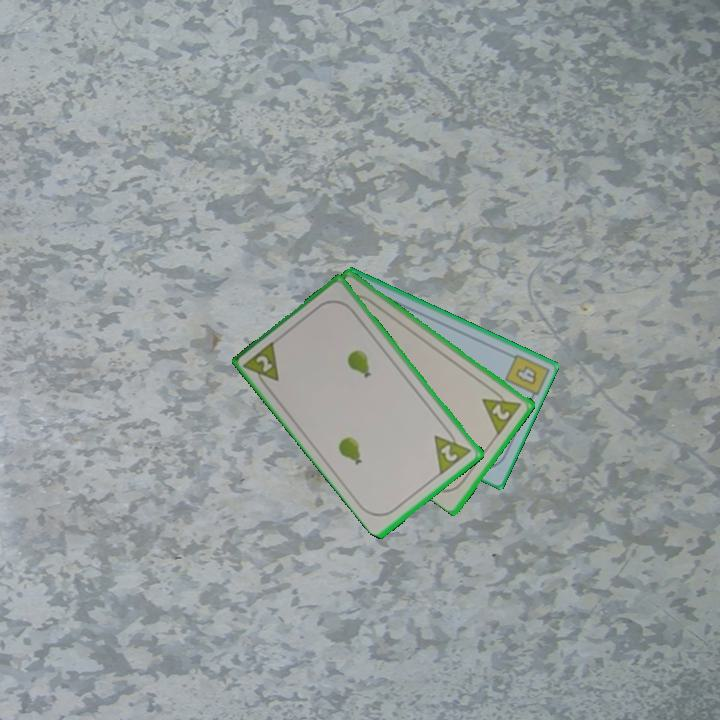2p: (479, 384, 525, 437), (241, 337, 283, 393), (437, 441, 461, 465)
4b: (512, 362, 540, 388)
